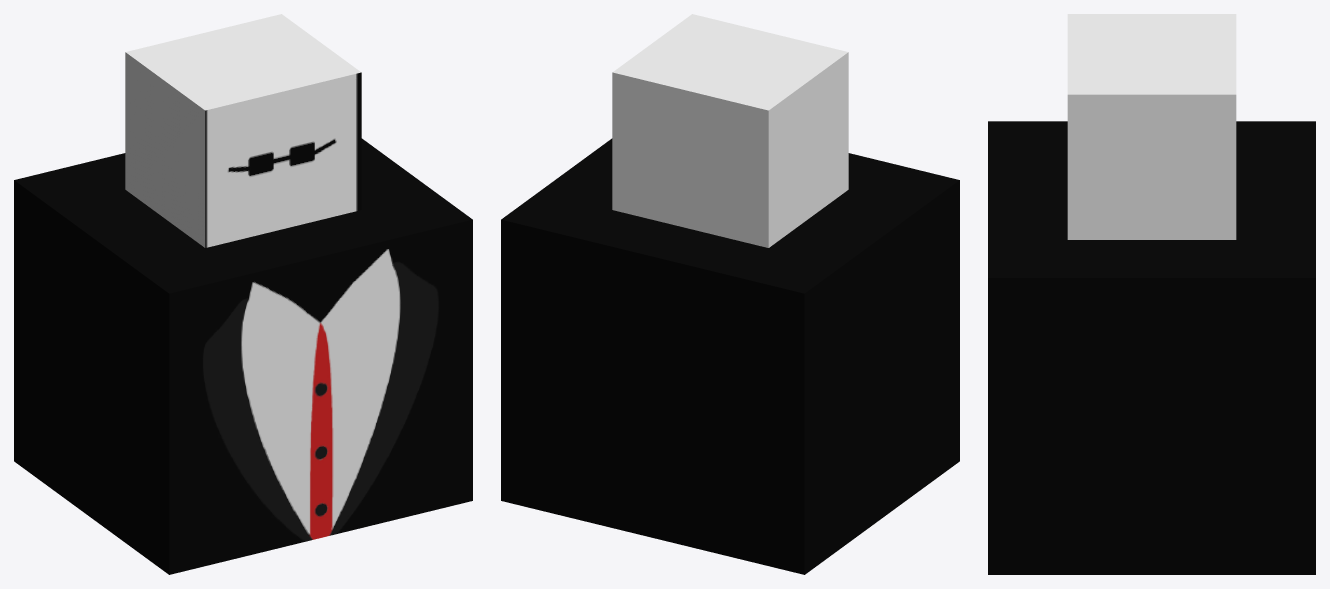
File: slav the claw.fbx
3 renders of one model, left to right at view 1: azimuth 30°, elevation 25°; view 2: azimuth 150°, elevation 25°; view 3: azimuth 270°, elevation 25°, orthographic. The views are drawn at different scales.
Parts seen in each view (by area): view 1: pasted__polySurface9; view 2: pasted__polySurface9; view 3: pasted__polySurface9.
Part boxes in pixels (<box>): pasted__polySurface9: <box>14,14,472,574</box>; pasted__polySurface9: <box>501,14,959,574</box>; pasted__polySurface9: <box>988,14,1315,574</box>.
Bounding box in the file's own units: 3.96 × 5.22 × 3.51.
